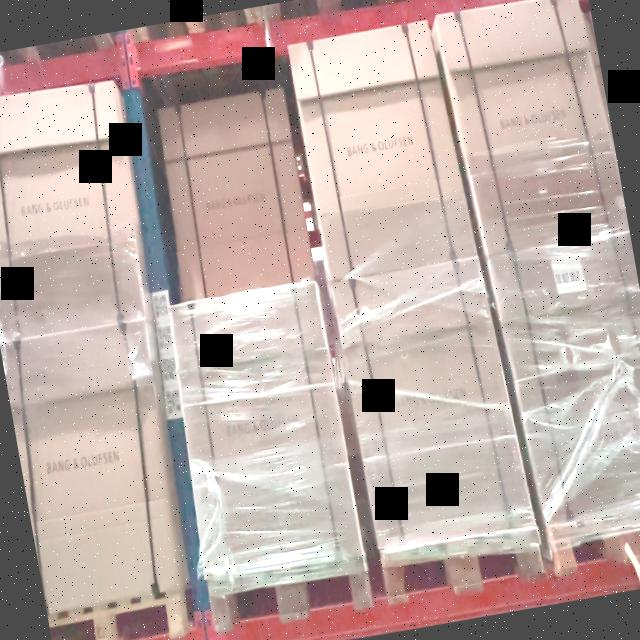box: (332, 262, 528, 544), (169, 286, 360, 570), (292, 25, 469, 278), (159, 88, 314, 296)
